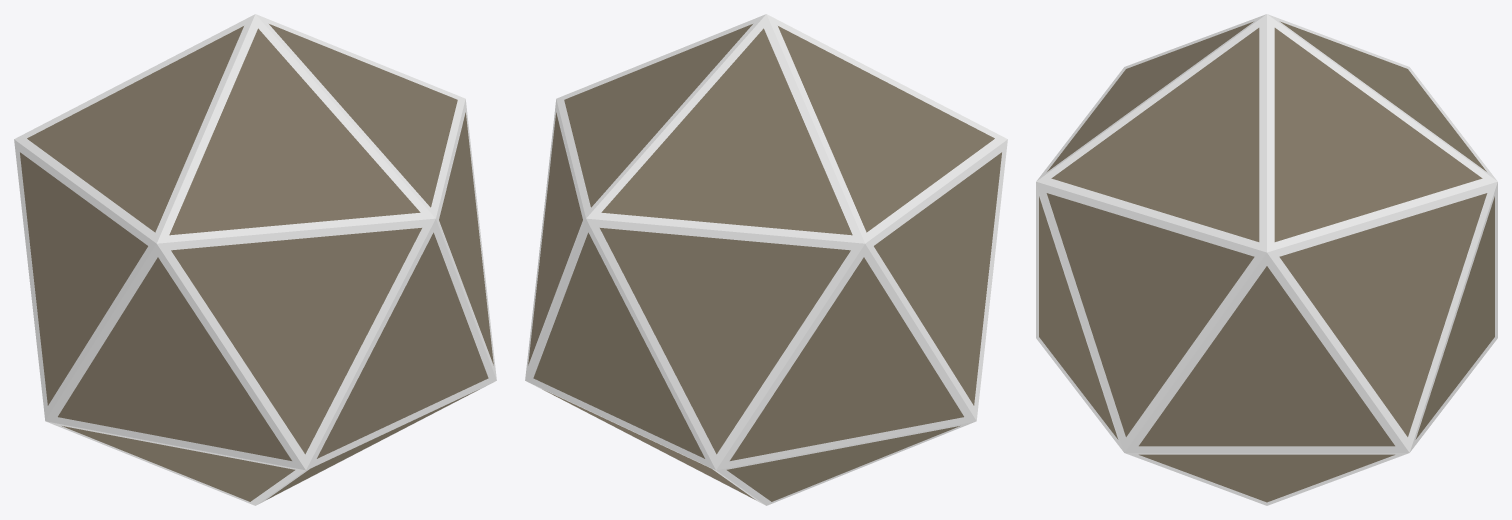
Rendered from materialA.glb.
3 views of the same model, side by side, from view 1: azimuth 30°, elevation 25°; view 2: azimuth 150°, elevation 25°; view 3: azimuth 270°, elevation 25° (orthographic).
Visible parts, largest first — view 1: rock1; view 2: rock1; view 3: rock1.
Boxes of the visible parts, box(x1,y1,x2,y2) form: rock1: box(14, 14, 496, 505); rock1: box(525, 14, 1007, 505); rock1: box(1036, 14, 1497, 505).
Bounding box in the file's own units: 1.07 × 1.2 × 1.02.
Materials: 1 (1 with a texture image).
